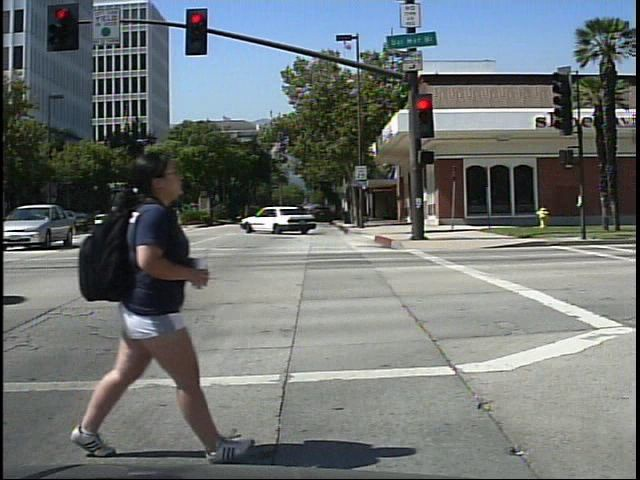person: (69, 126, 254, 467)
